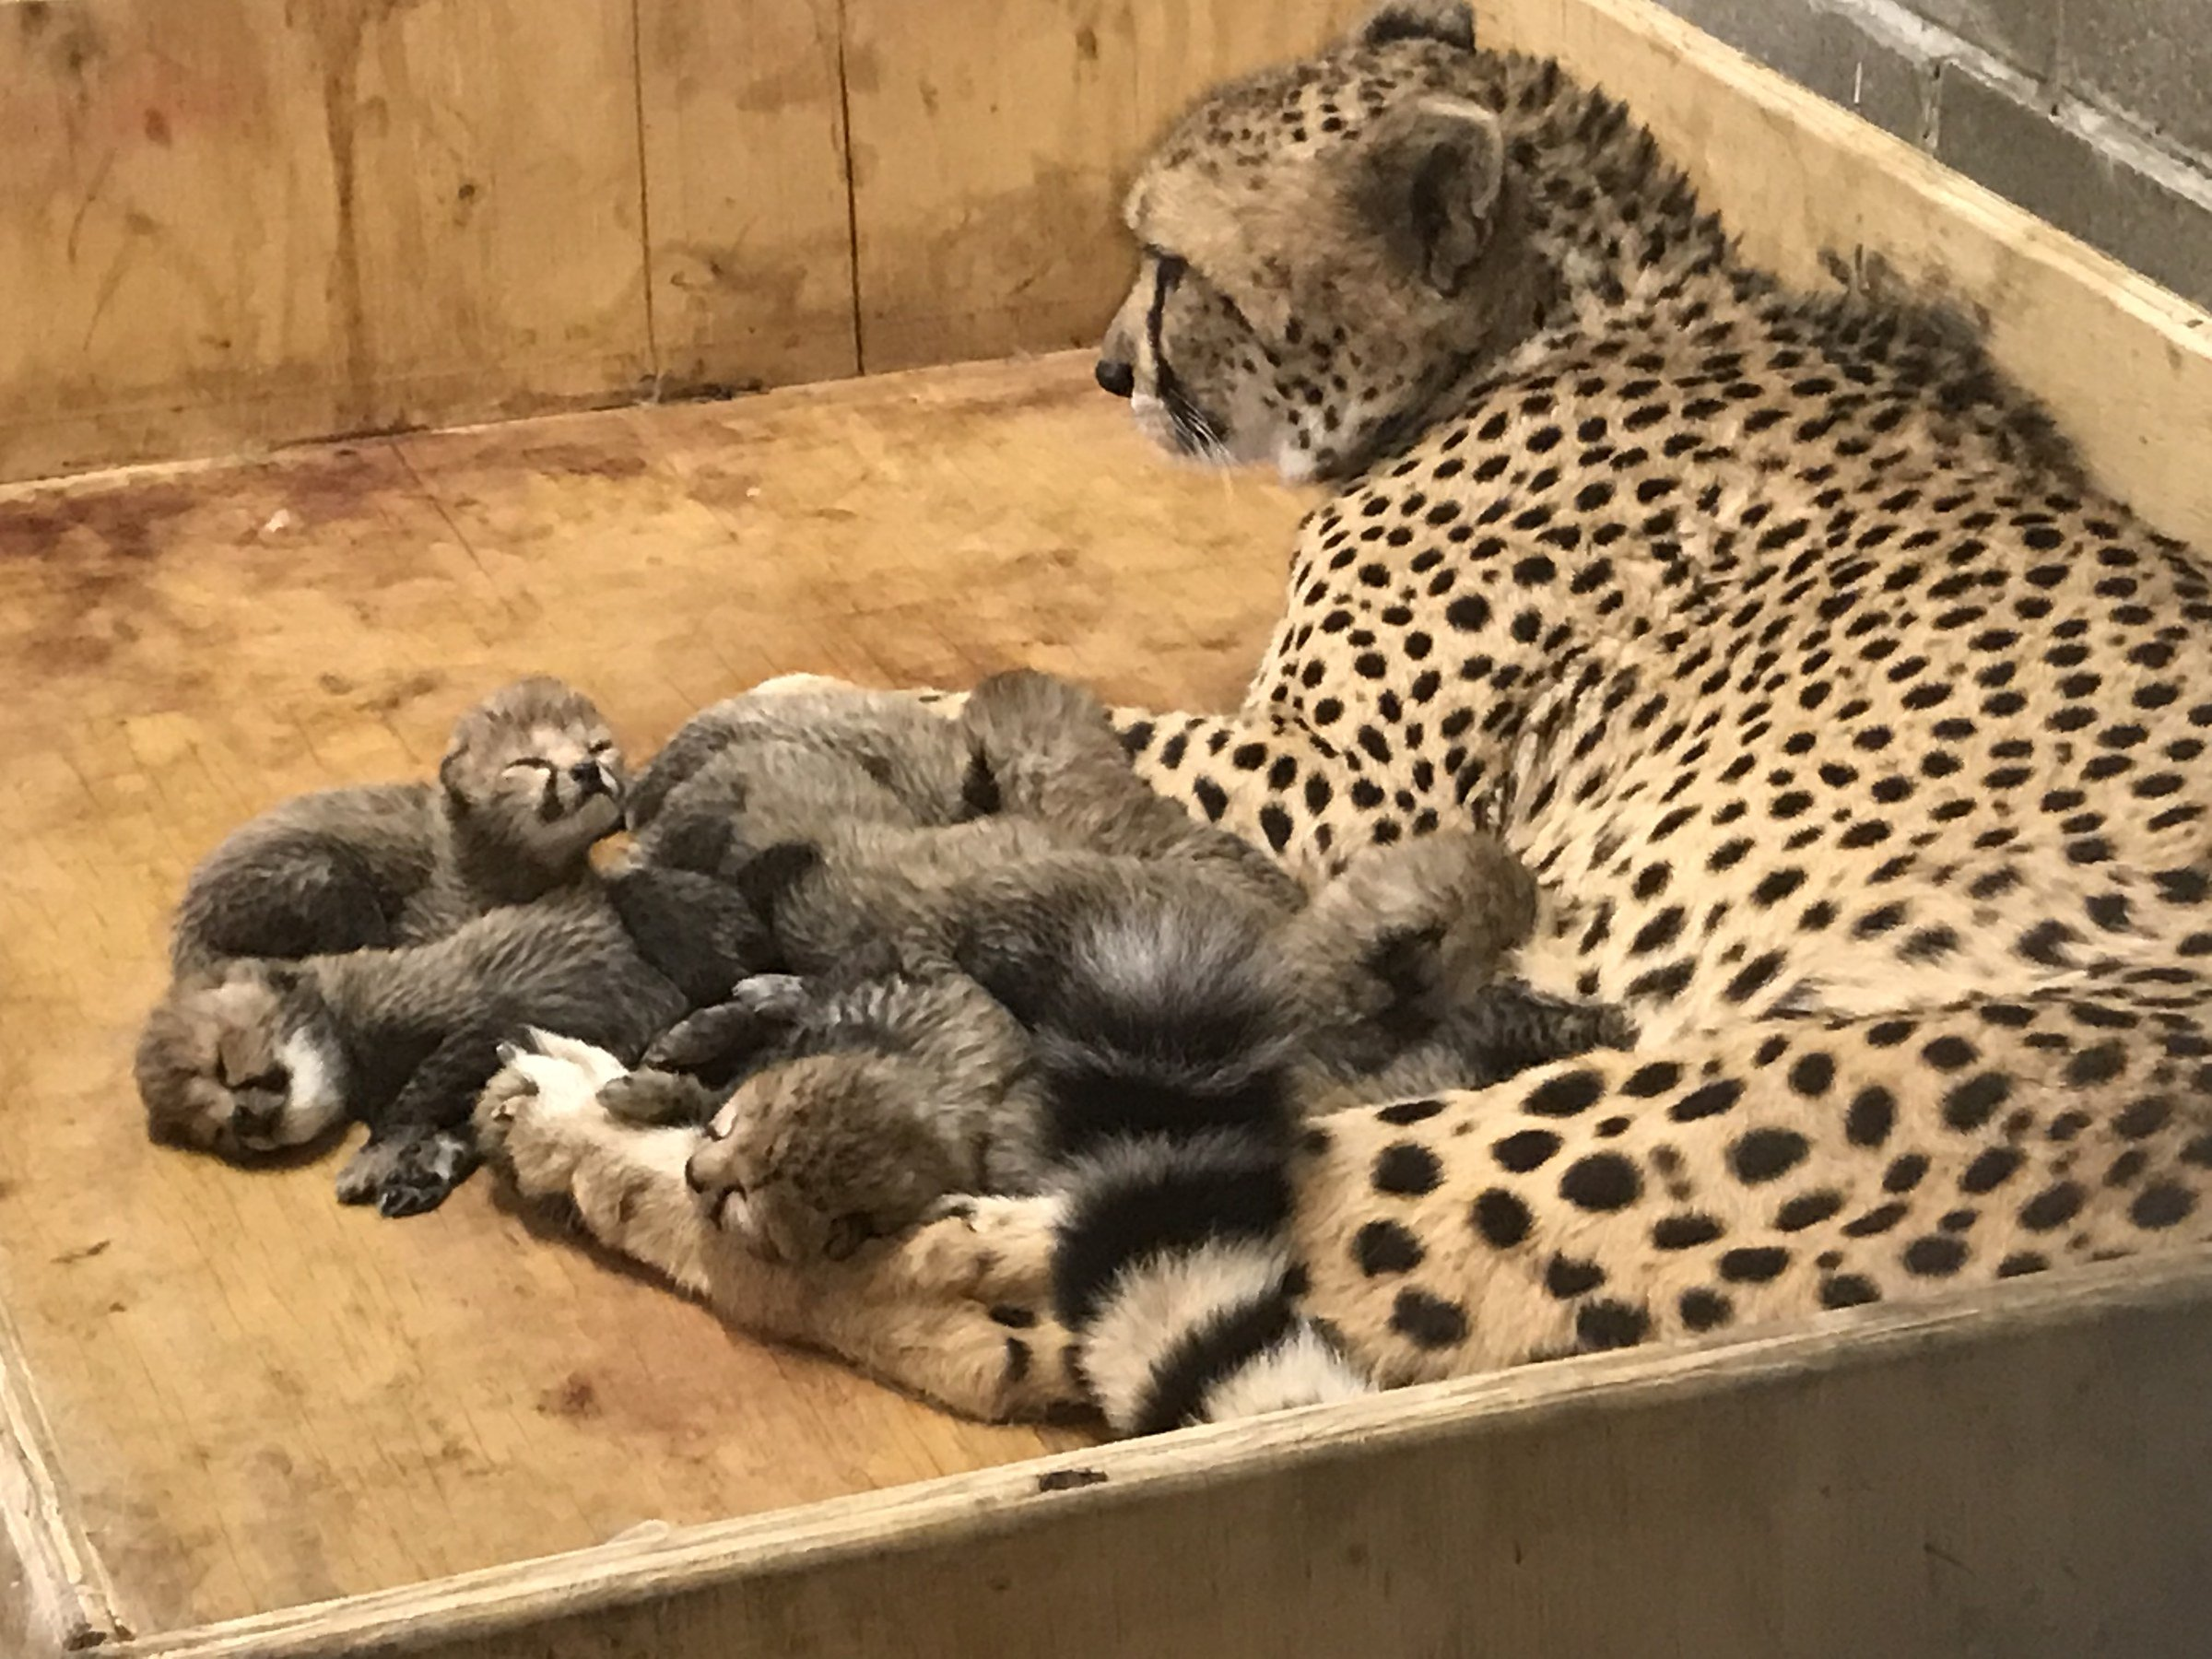Cheetah: (1045, 26, 2212, 1354)
